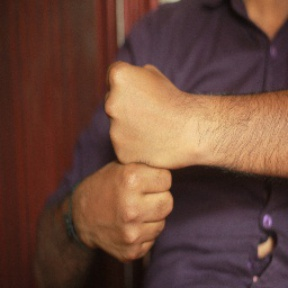G: (68, 55, 196, 266)
